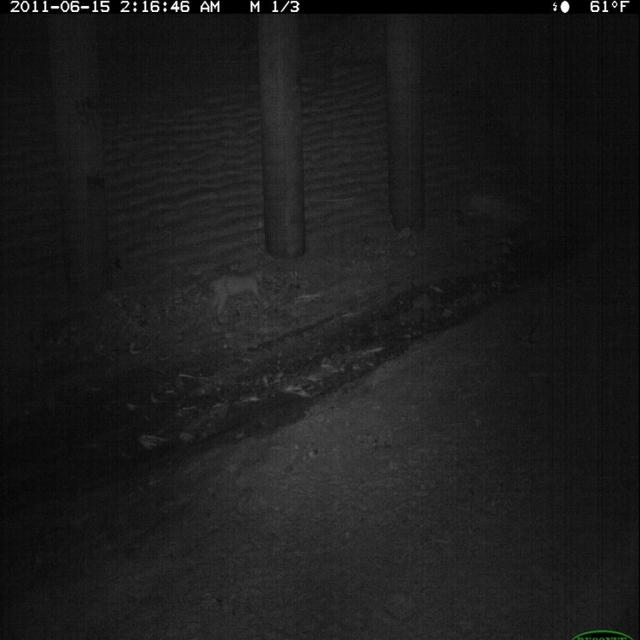bobcat: (206, 265, 272, 329)
